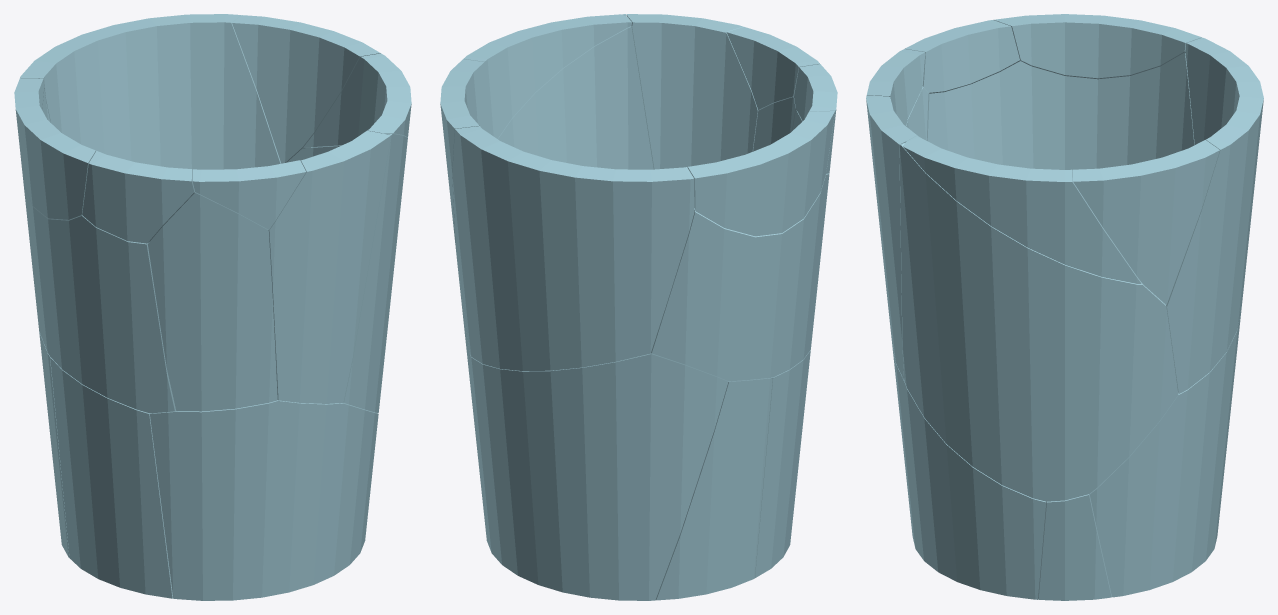
The model's file is broken_glass.fbx.
3 views of the same model, side by side, from view 1: azimuth 30°, elevation 25°; view 2: azimuth 150°, elevation 25°; view 3: azimuth 270°, elevation 25° (orthographic).
Parts seen in each view (by area): view 1: Glass_cell.008, Glass_cell.001, Glass_cell.003, Glass_cell.007, Glass_cell.010, Glass_cell.011, Glass_cell.005, Glass_cell.004, Glass_cell.006, Glass_cell.012, Glass_cell, Glass_cell.009 (+1 smaller); view 2: Glass_cell.002, Glass_cell.001, Glass_cell.010, Glass_cell.003, Glass_cell.013, Glass_cell.004, Glass_cell.012, Glass_cell, Glass_cell.011, Glass_cell.009, Glass_cell.005, Glass_cell.006 (+1 smaller); view 3: Glass_cell.004, Glass_cell.010, Glass_cell.002, Glass_cell.001, Glass_cell.008, Glass_cell, Glass_cell.005, Glass_cell.012, Glass_cell.011, Glass_cell.003, Glass_cell.006, Glass_cell.009 (+1 smaller).
Part boxes in pixels (left/top/right/bottom): Glass_cell.008: left=150, top=400, right=378, bottom=600; Glass_cell.001: left=20, top=14, right=280, bottom=170; Glass_cell.003: left=268, top=130, right=390, bottom=403; Glass_cell.007: left=148, top=193, right=277, bottom=411; Glass_cell.010: left=23, top=88, right=176, bottom=413; Glass_cell.011: left=50, top=357, right=172, bottom=598; Glass_cell.005: left=232, top=15, right=380, bottom=163; Glass_cell.004: left=287, top=134, right=407, bottom=412; Glass_cell.006: left=82, top=151, right=195, bottom=243; Glass_cell.012: left=14, top=78, right=95, bottom=219; Glass_cell: left=303, top=53, right=411, bottom=147; Glass_cell.009: left=192, top=160, right=305, bottom=229; Glass_cell.002: left=468, top=354, right=728, bottom=600; Glass_cell.001: left=452, top=126, right=694, bottom=370; Glass_cell.010: left=650, top=110, right=829, bottom=381; Glass_cell.003: left=626, top=14, right=758, bottom=169; Glass_cell.013: left=655, top=378, right=772, bottom=600; Glass_cell.004: left=456, top=14, right=653, bottom=364; Glass_cell.012: left=688, top=111, right=834, bottom=236; Glass_cell: left=463, top=14, right=632, bottom=138; Glass_cell.011: left=755, top=349, right=810, bottom=577; Glass_cell.009: left=726, top=27, right=819, bottom=109; Glass_cell.005: left=440, top=59, right=484, bottom=244; Glass_cell.006: left=794, top=64, right=837, bottom=173; Glass_cell.004: left=899, top=143, right=1178, bottom=501; Glass_cell.010: left=927, top=52, right=1194, bottom=170; Glass_cell.002: left=1089, top=308, right=1241, bottom=597; Glass_cell.001: left=1166, top=37, right=1263, bottom=393; Glass_cell.008: left=891, top=340, right=1046, bottom=599; Glass_cell: left=903, top=135, right=1141, bottom=283; Glass_cell.005: left=1072, top=140, right=1219, bottom=304; Glass_cell.012: left=994, top=14, right=1201, bottom=79; Glass_cell.011: left=1038, top=494, right=1111, bottom=600; Glass_cell.003: left=866, top=95, right=916, bottom=379; Glass_cell.006: left=905, top=20, right=1019, bottom=93; Glass_cell.009: left=866, top=49, right=925, bottom=126.
Size of the model in its own units: 114 by 140 by 114.
